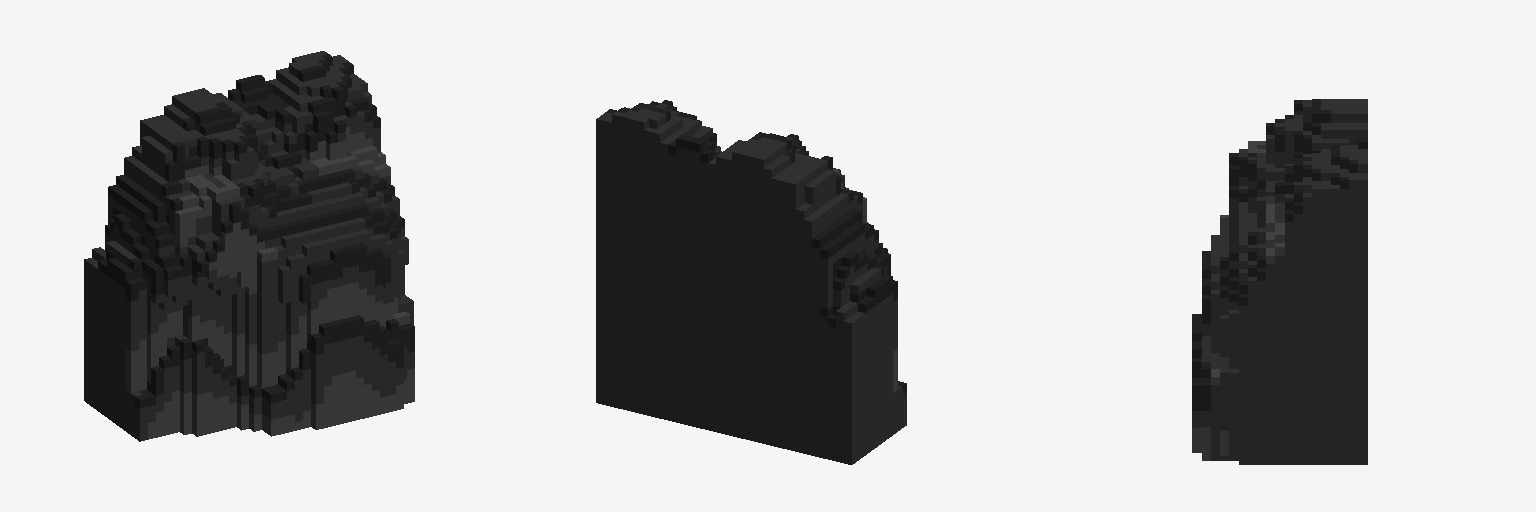
The picture shows the model from 3 angles: view 1: azimuth 30°, elevation 25°; view 2: azimuth 150°, elevation 25°; view 3: azimuth 270°, elevation 25°; orthographic projection.
Parts seen in each view (by area): view 1: object 1; view 2: object 1; view 3: object 1.
Boxes of the visible parts, x1=… form: object 1: x1=84, y1=51, x2=414, y2=441; object 1: x1=596, y1=100, x2=906, y2=464; object 1: x1=1192, y1=99, x2=1367, y2=464.
Size of the model in its own units: 3.2 by 3.5 by 1.9.
Materials: 1 (1 with a texture image).